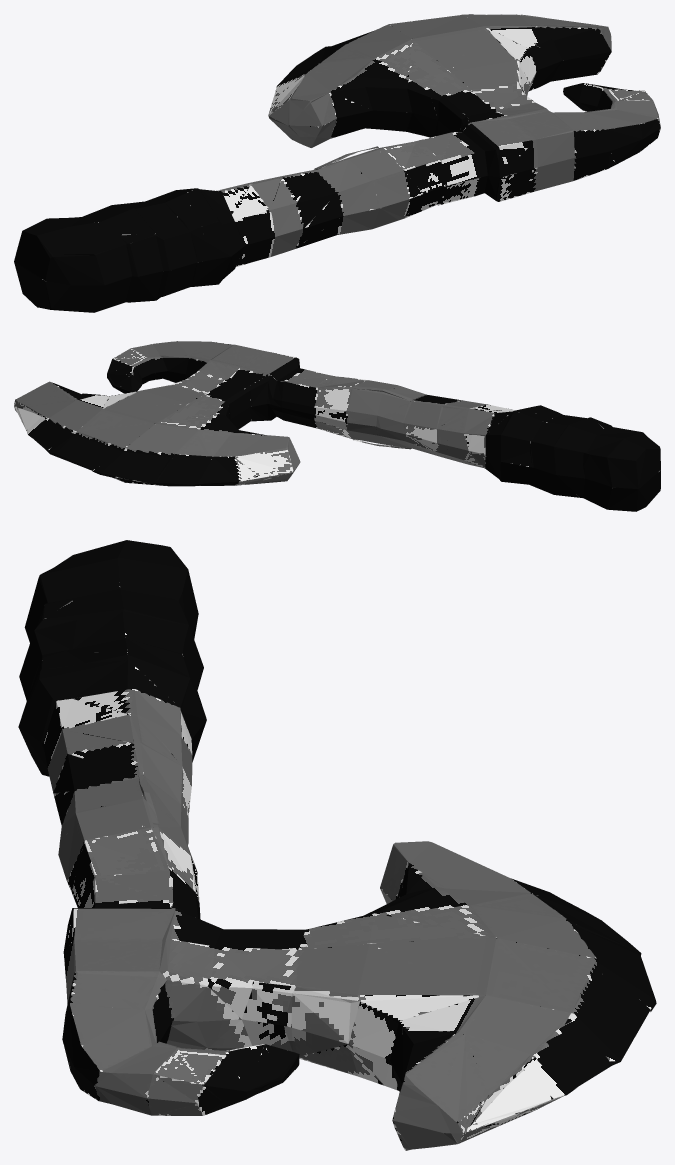
The picture shows the model from 3 angles, top to bottom: view 1: azimuth 30°, elevation 25°; view 2: azimuth 150°, elevation 25°; view 3: azimuth 270°, elevation 25°; orthographic projection. The views are drawn at different scales.
Visible parts, largest first — view 1: OBJ000; view 2: OBJ000; view 3: OBJ000.
Boxes of the visible parts, <box> form: OBJ000: <box>14,14,660,312</box>; OBJ000: <box>14,341,660,511</box>; OBJ000: <box>18,540,656,1150</box>.
Size of the model in its own units: 0.3252 by 0.04 by 0.1621.
1 material, 1 textured.
